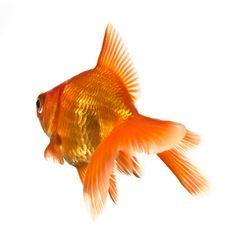goldfish: (26, 39, 197, 199)
